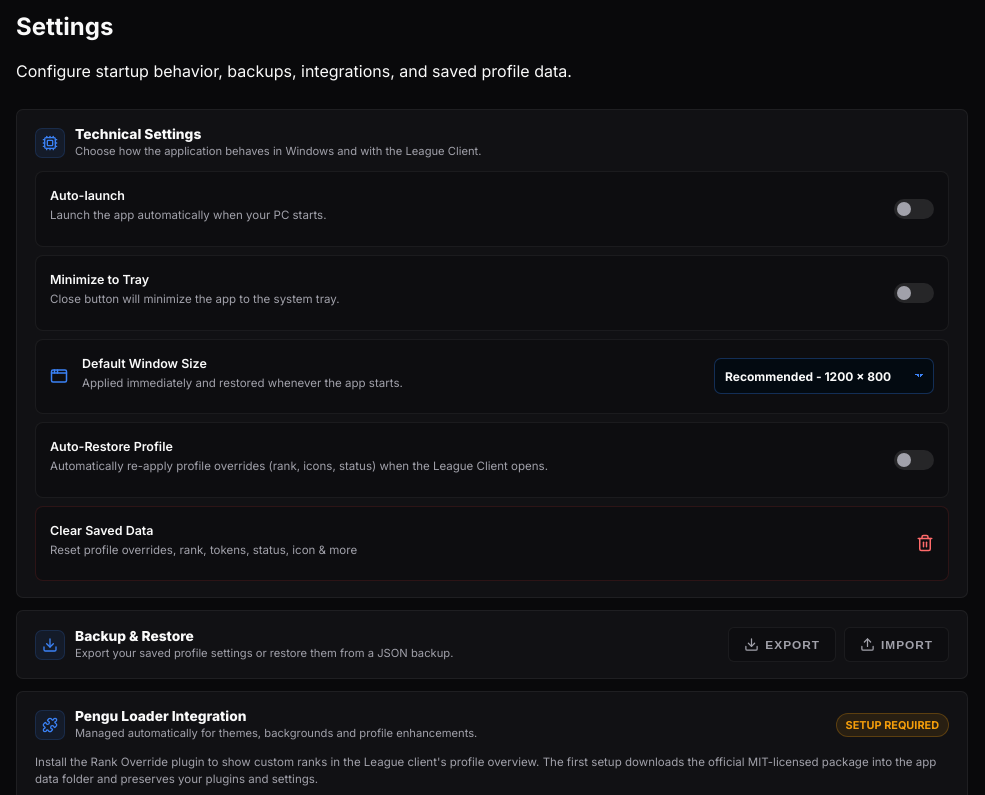
Test: SettingsTab › should show checkbox panel when Clear Saved Data is clicked
Click the text "Clear Saved Data". click: point(102, 530)
box: [50, 522, 153, 538]
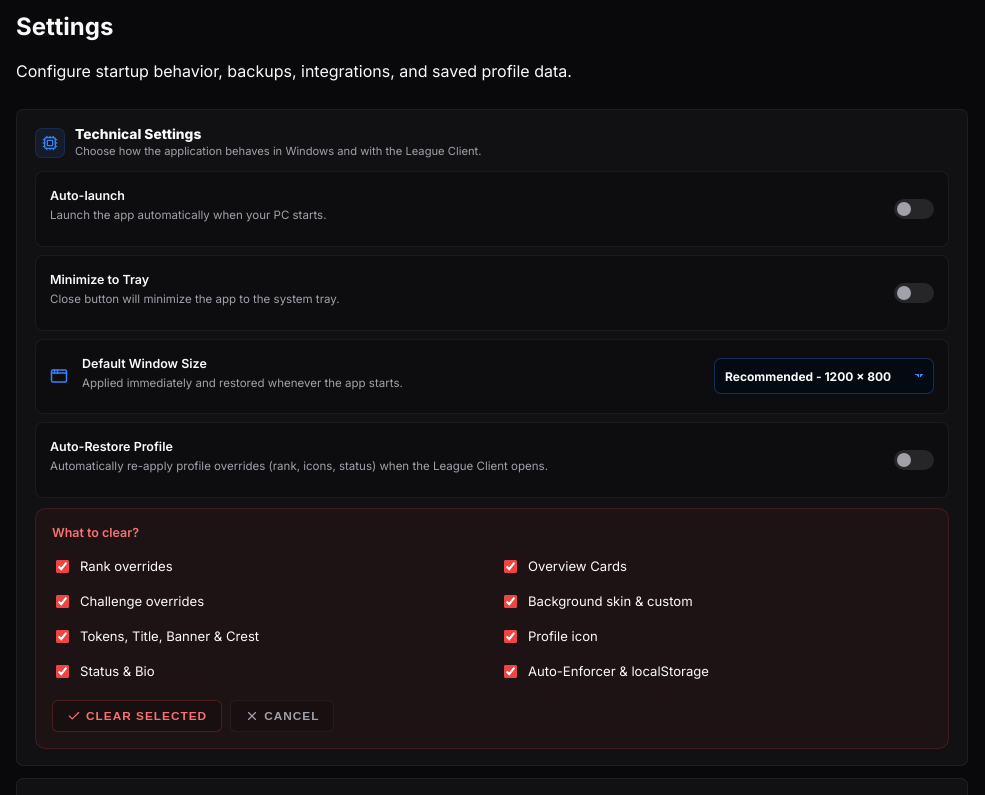
Check: the text "What to clear?" is shown, box [52, 524, 139, 540]
Check: the button "Clear Selected" is shown, box [52, 700, 222, 732]
Check: the button "Cancel" is shown, box [230, 700, 334, 732]
